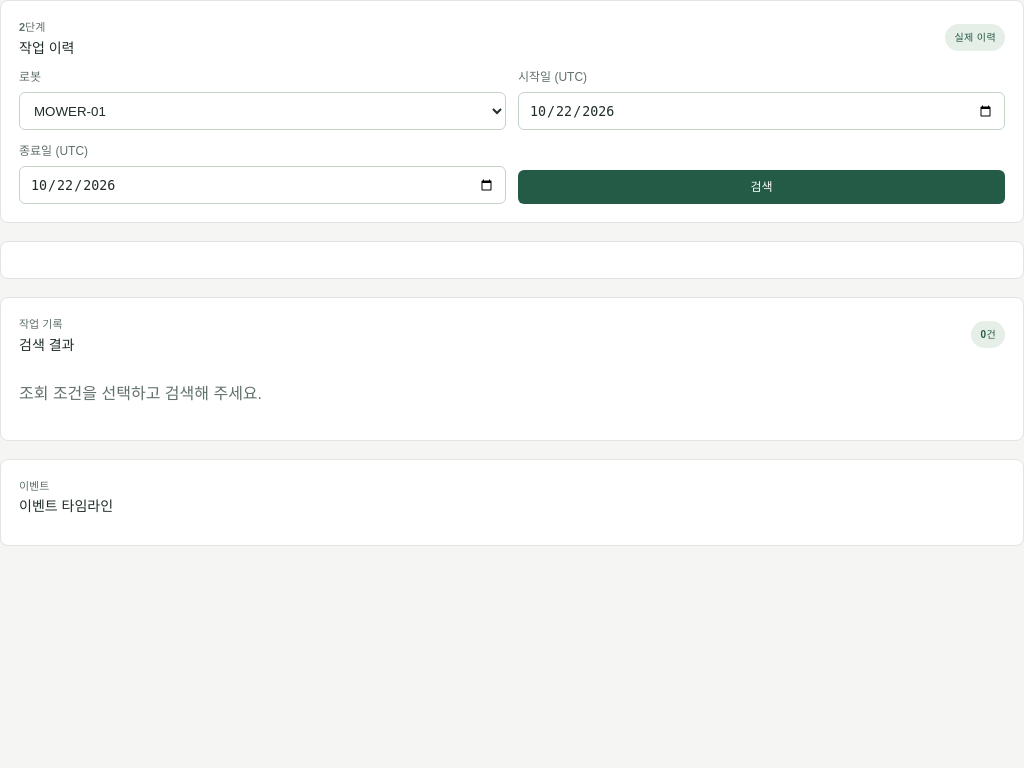
Test: 늦은 이전 검색 success 응답이 최신 검색을 덮지 않는다
Click the button "검색" at (762, 187), box 518,170 -> 1005,204
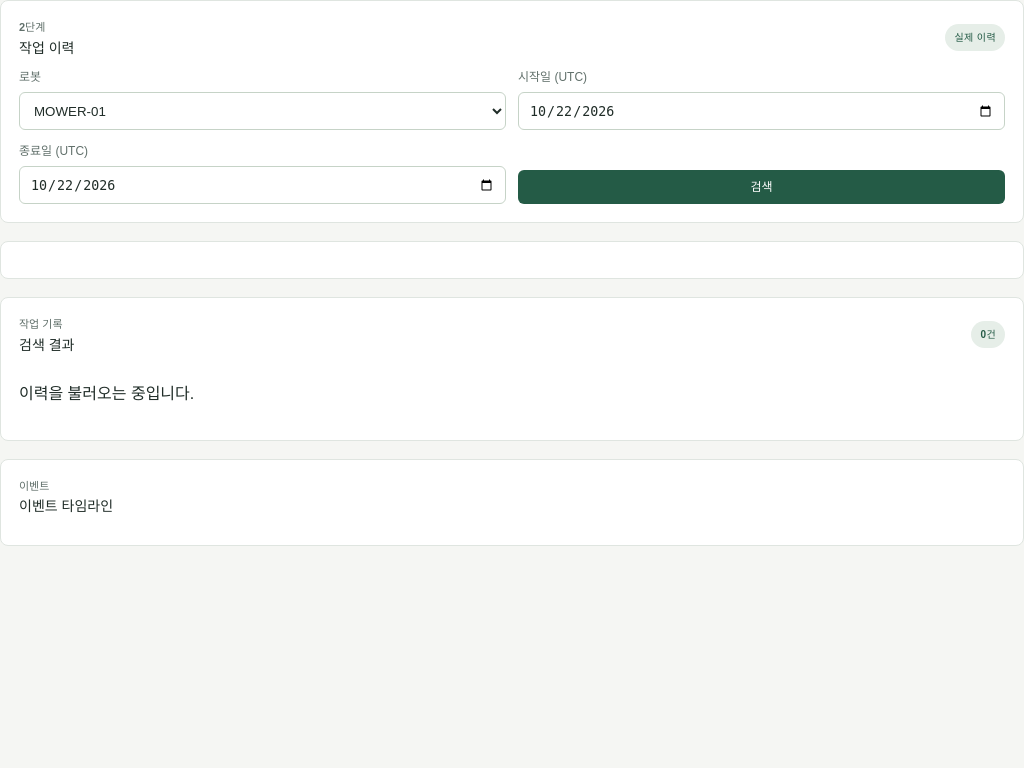
Click the button "검색" at (762, 187), box 518,170 -> 1005,204
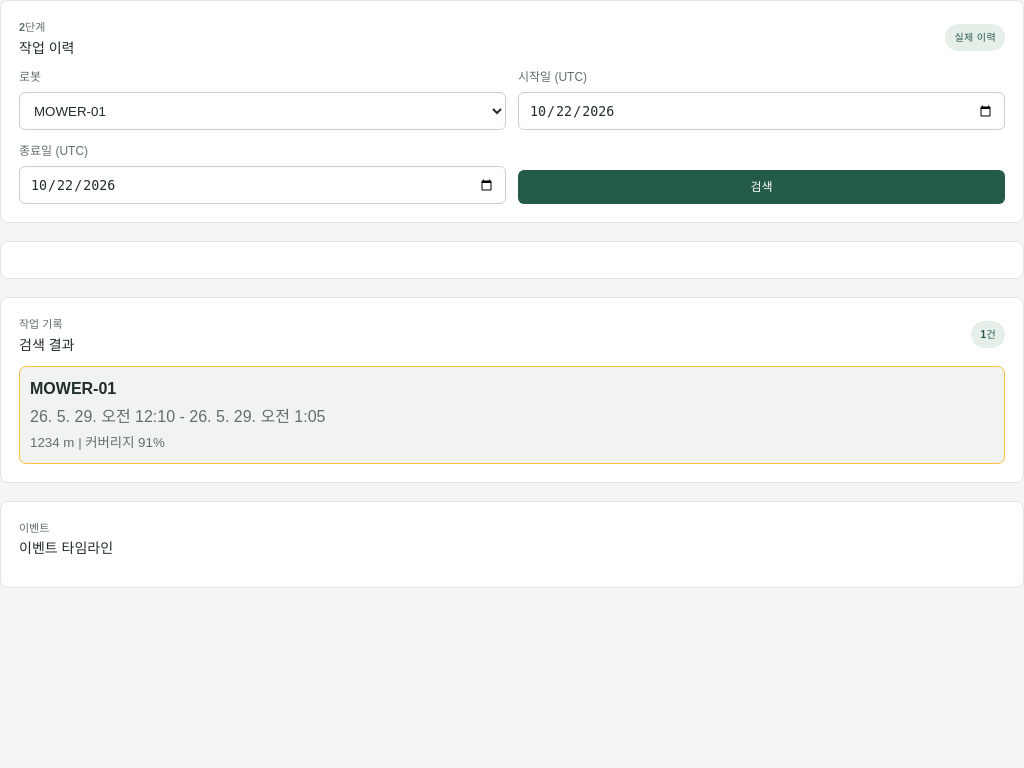
Check: the text "1234 m | 커버리지 91%" is shown, box 30,435 -> 165,450
Check: the message "이력을 불러오는 중입니다." is gone
